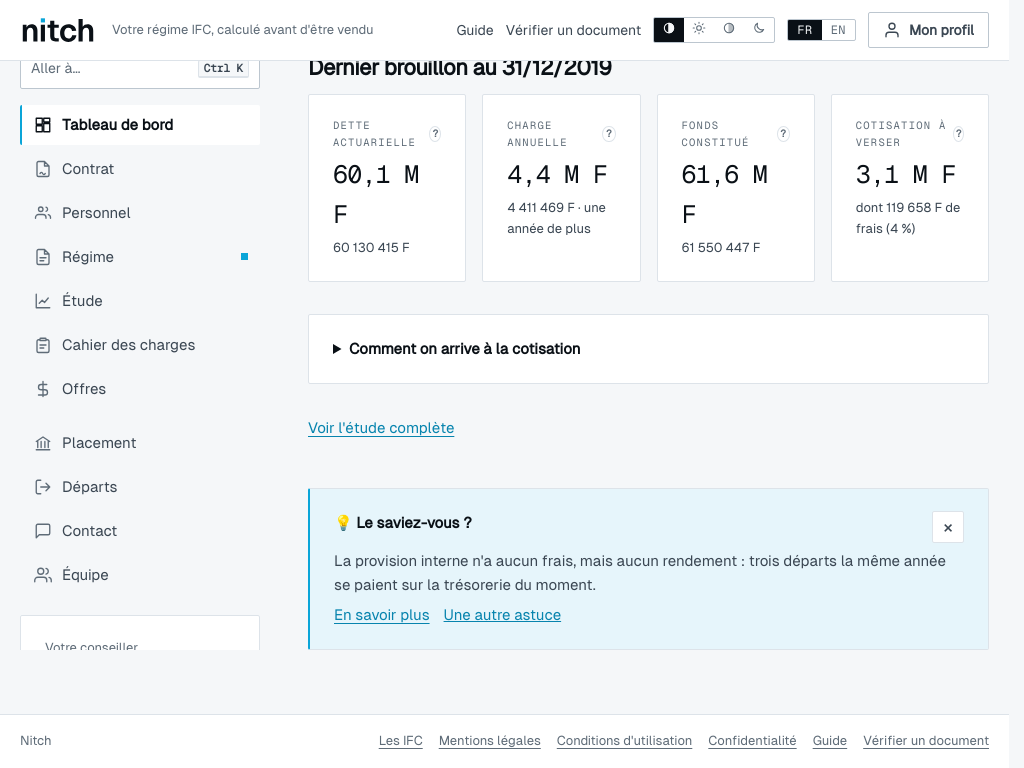
Test case: dans le dossier › « Le saviez-vous ? » se referme jusqu'à demain
The image size is (1024, 768).
(page scrolled)
Click the button named "Fermer l'astuce" at (948,527), box [932,511,964,543]
(page scrolled)
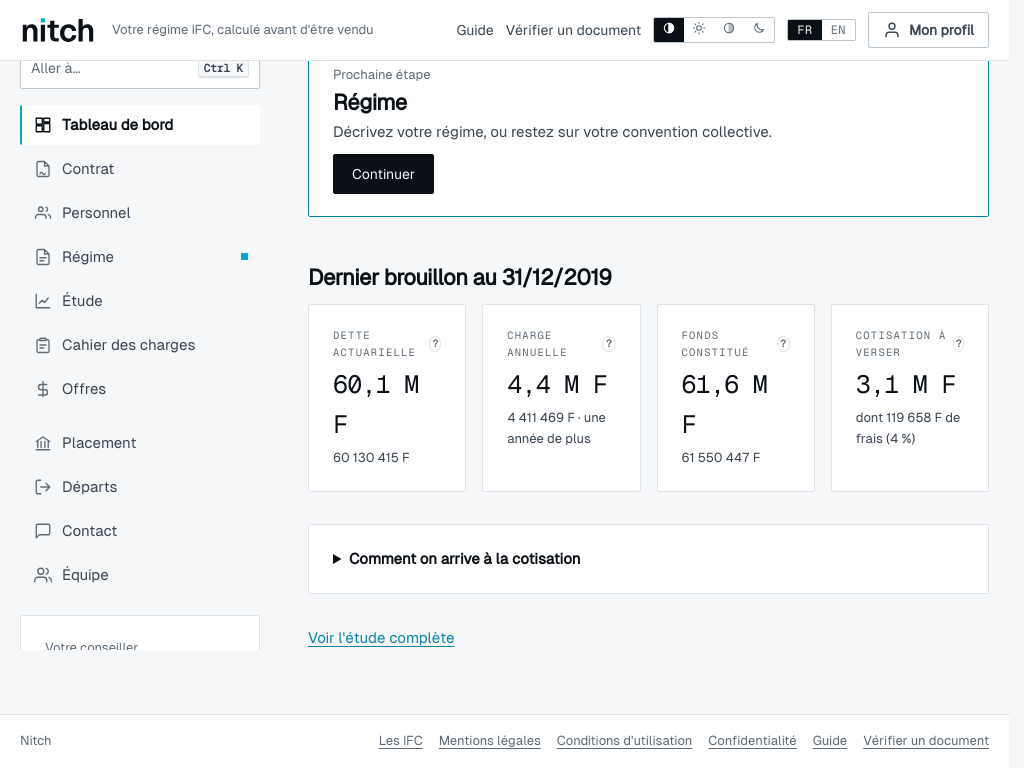
Expected: the text labelled "Le saviez-vous ?" is gone
